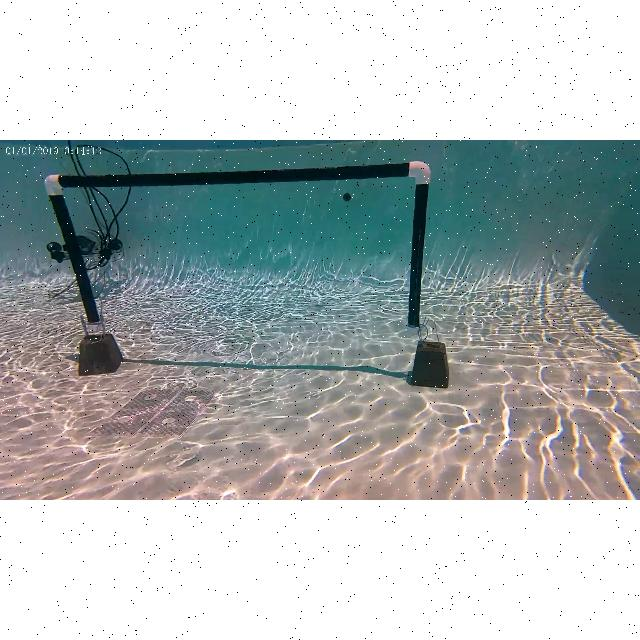prequal gate: (46, 162, 430, 334)
prequal gate leg l: (39, 170, 125, 380)
prequal gate leg r: (399, 158, 455, 390)
